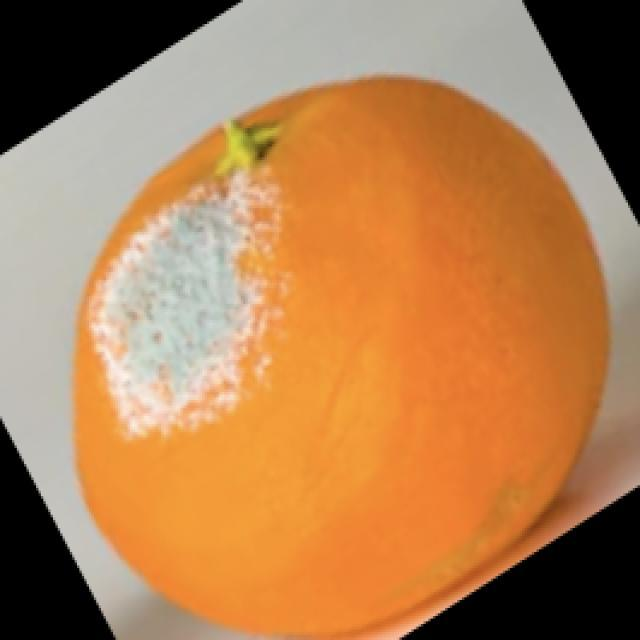sedikit-busuk: (74, 78, 608, 633), (92, 171, 266, 434)
